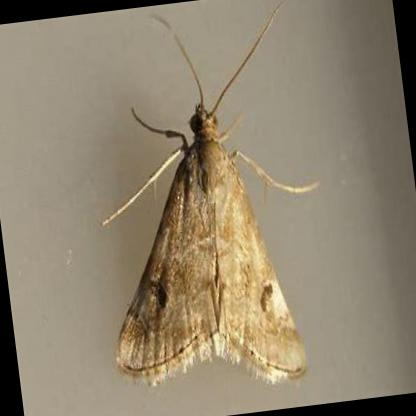Hellula undalis: (94, 0, 328, 386)
